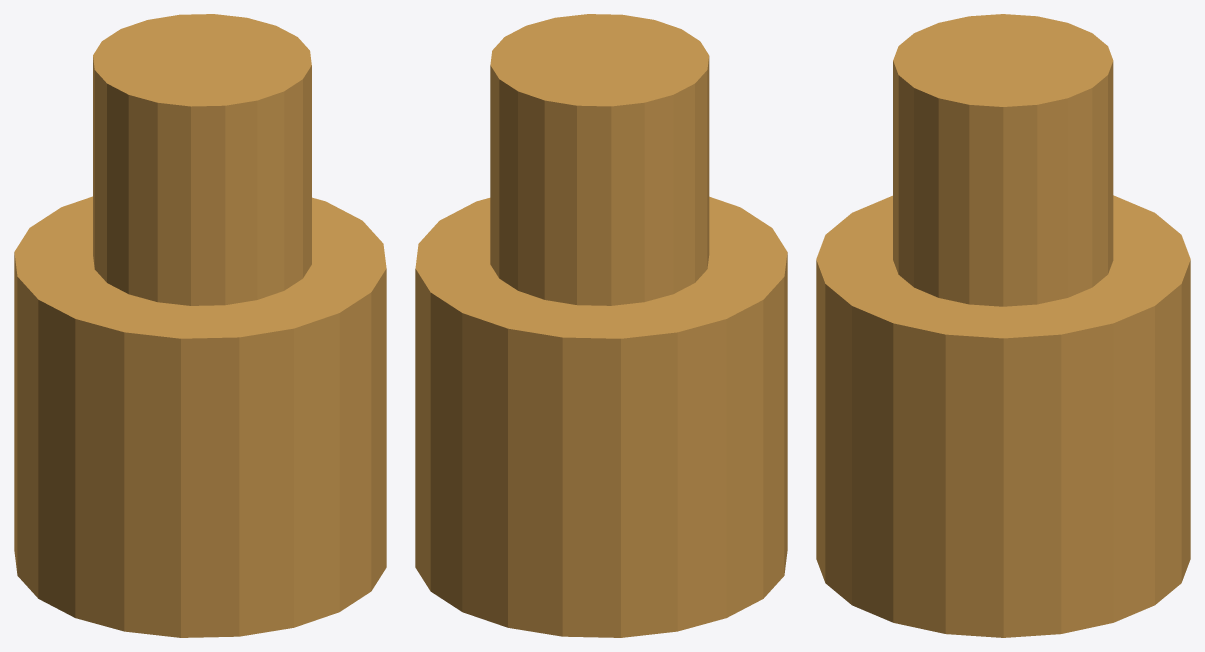
The model's file is paper-towel-adapter.glb.
3 views of the same model, side by side, from view 1: azimuth 30°, elevation 25°; view 2: azimuth 150°, elevation 25°; view 3: azimuth 270°, elevation 25° (orthographic).
Visible parts, largest first — view 1: Mesh_Mesh_head_geo.001_lambert2SG.001; view 2: Mesh_Mesh_head_geo.001_lambert2SG.001; view 3: Mesh_Mesh_head_geo.001_lambert2SG.001.
Boxes of the visible parts, <box> form: Mesh_Mesh_head_geo.001_lambert2SG.001: <box>14,14,386,637</box>; Mesh_Mesh_head_geo.001_lambert2SG.001: <box>415,14,787,637</box>; Mesh_Mesh_head_geo.001_lambert2SG.001: <box>816,14,1190,637</box>.
Size of the model in its own units: 43.18 by 63.5 by 43.18.
